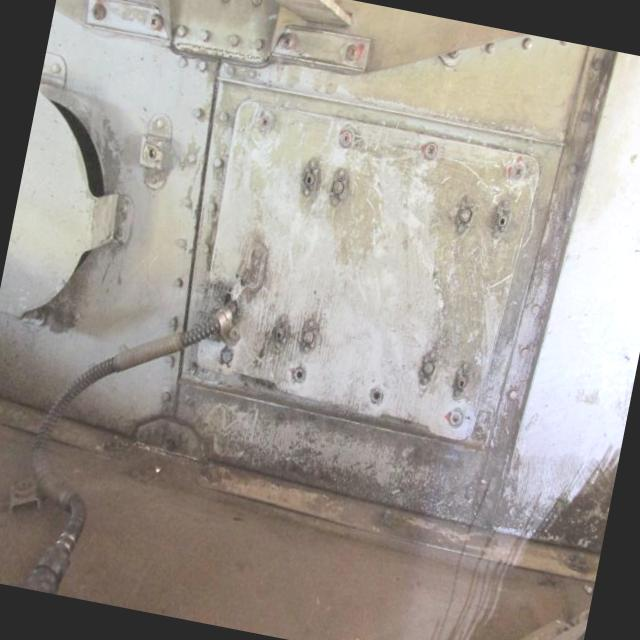Missing Fastener: (286, 363, 310, 391), (442, 404, 466, 430), (366, 386, 387, 408)
